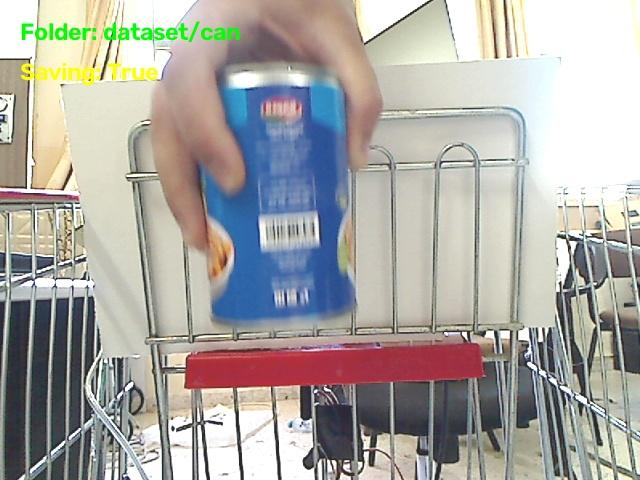can: (203, 63, 354, 323)
